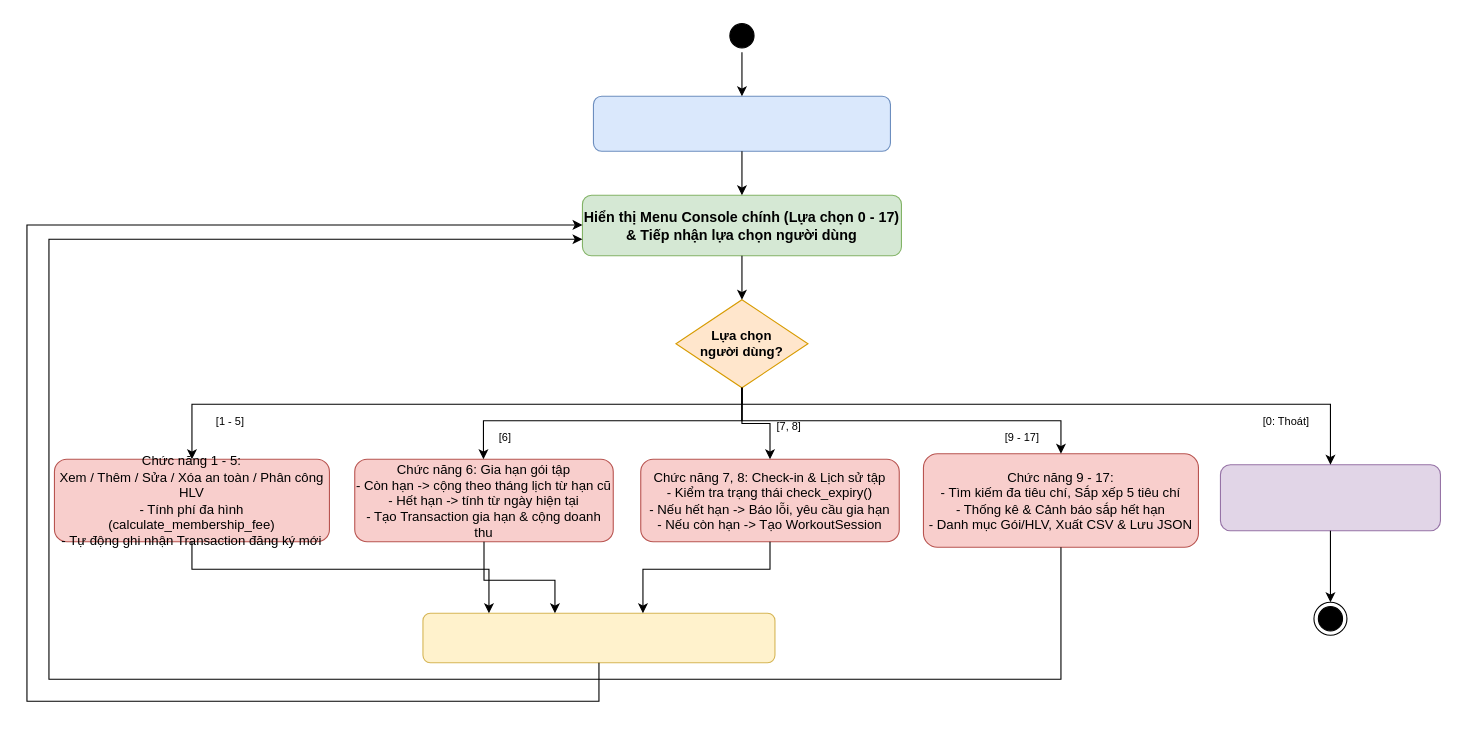
Image size: 1460x729. Some labels were removed from this diagram. Here are the shapes that lost their labels. From the top down, the box of each, then its label:
(592, 95, 890, 151): Khởi tạo GymManager & Tự động nạp dữ liệu từ 'data/gym_data.json'
(1219, 464, 1440, 531): Chức năng 0: Thoát Tự động lưu toàn bộ dữ liệu vào 'data/gym_data.json'
(422, 612, 775, 663): Đồng bộ & Ghi dữ liệu vào 'data/gym_data.json'
